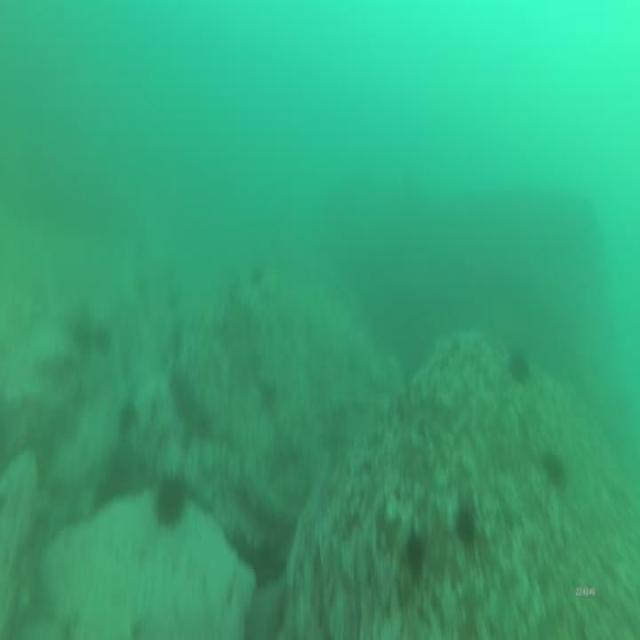echinus: (148, 464, 191, 532), (539, 443, 568, 496), (403, 526, 428, 586), (505, 340, 534, 390), (452, 499, 479, 552), (186, 401, 215, 444), (167, 368, 192, 417), (92, 321, 115, 359), (118, 395, 138, 430), (259, 373, 280, 404), (245, 264, 265, 288)
